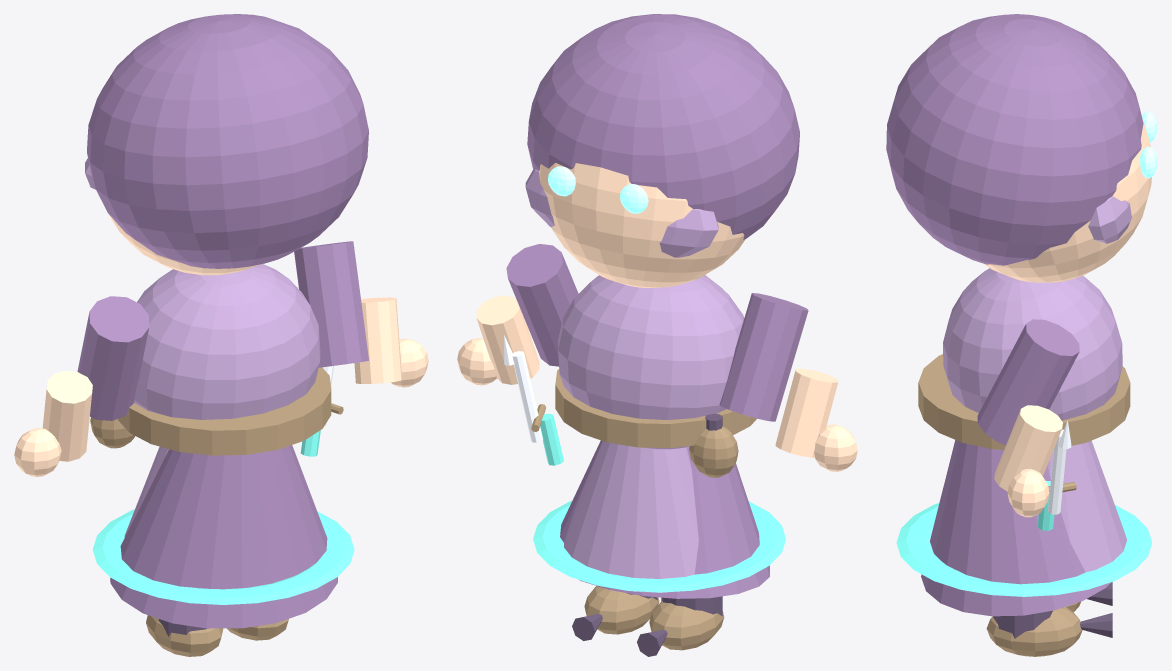
The model's file is ShadyFigure.glb.
The picture shows the model from 3 angles, left to right: view 1: azimuth 30°, elevation 25°; view 2: azimuth 150°, elevation 25°; view 3: azimuth 270°, elevation 25°; orthographic projection. The views are drawn at different scales.
Visible parts, largest first — view 1: HoodOuter, CloakDrape, Body, Belt, CloakTrim, ArmL, ArmR, ForearmL, ForearmR, HandL, BootL, HandR (+3 smaller); view 2: HoodOuter, Body, CloakInner, Head, CloakDrape, ArmL, CloakTrim, ArmR, Belt, ForearmL, ForearmR, FaceWrap (+12 smaller); view 3: HoodOuter, Body, CloakDrape, ArmR, CloakTrim, CloakInner, Belt, Head, ForearmR, BootR, HandR, FaceWrap (+4 smaller).
Boxes of the visible parts, x1,y1,x2,y2 form: HoodOuter: (87, 14, 368, 268); CloakDrape: (110, 445, 337, 628); Body: (134, 264, 320, 419); Belt: (118, 367, 331, 455); CloakTrim: (92, 509, 354, 604); ArmL: (77, 296, 149, 420); ArmR: (294, 241, 368, 367); ForearmL: (42, 370, 92, 461); ForearmR: (354, 297, 401, 383); HandL: (14, 428, 61, 476); BootL: (146, 615, 223, 656); HandR: (390, 338, 428, 387); HoodOuter: (527, 14, 799, 239); Body: (558, 275, 744, 449); CloakInner: (564, 441, 698, 592); Head: (539, 163, 745, 287); CloakDrape: (560, 440, 769, 598); ArmL: (719, 293, 808, 421); CloakTrim: (533, 500, 785, 592); ArmR: (506, 244, 578, 366); Belt: (555, 369, 756, 448); ForearmL: (775, 368, 838, 457); ForearmR: (476, 295, 539, 384); FaceWrap: (525, 168, 718, 257); HoodOuter: (886, 14, 1143, 265); Body: (943, 268, 1122, 420); CloakDrape: (921, 440, 1110, 616); ArmR: (977, 319, 1079, 445); CloakTrim: (896, 503, 1152, 596); CloakInner: (1047, 440, 1126, 572); Belt: (918, 354, 1130, 449); Head: (983, 120, 1151, 282); ForearmR: (994, 405, 1062, 491); BootR: (986, 607, 1082, 656); HandR: (1007, 469, 1049, 517); FaceWrap: (1088, 196, 1131, 243).
Size of the model in its own units: 1.09 by 1.6 by 0.6454.
